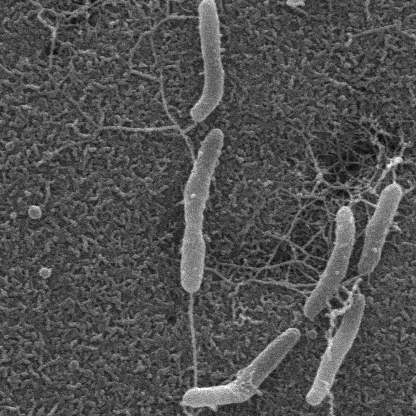cell2cell: (322, 380, 365, 416), (190, 294, 200, 390), (323, 299, 338, 353), (154, 407, 195, 416)
cell2surface: (151, 79, 201, 162), (251, 261, 319, 292), (103, 117, 195, 133), (350, 180, 379, 208)
filament: (183, 328, 300, 410), (181, 126, 226, 293), (190, 0, 226, 123), (286, 0, 369, 8)
regular: (308, 292, 365, 406), (303, 206, 354, 319), (359, 183, 401, 278)
